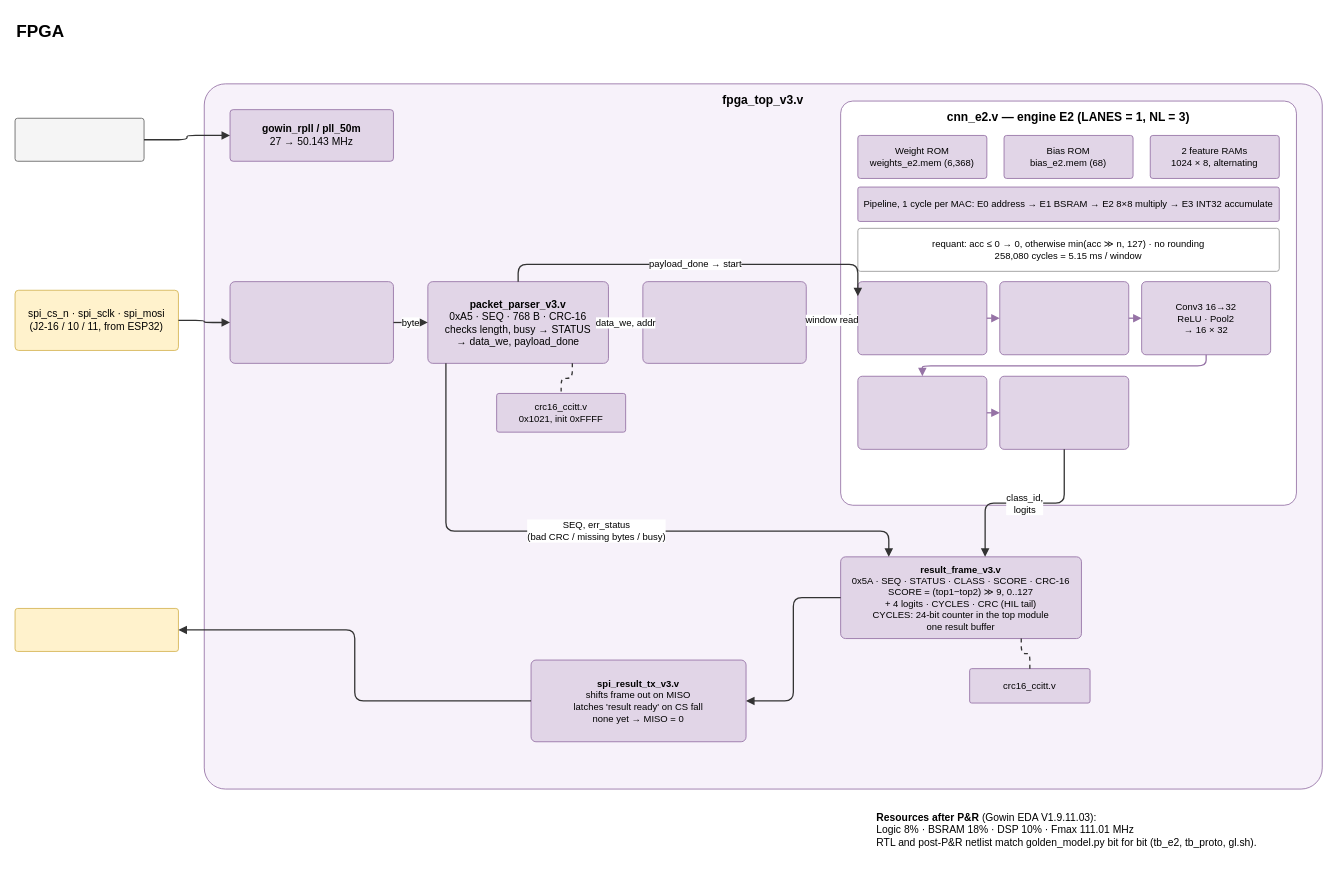
Some shapes in this 1337 by 881 pixel diagram are drawn without their labels. Here are the shapes that lost their labels. From the top down, the centre of each, then its label:
[79,139]: clk 27 MHz (H11)
[311,322]: spi_slave.v syncs SCK/CS/MOSI into 50 MHz domain, mode 0 → rx_data, rx_valid
[724,322]: input_buffer.v 768 × 8 BSRAM address i = t × 6 + c
[922,318]: Conv1 6→16, k5 ReLU · Pool2 → 64 × 16
[1064,318]: Conv2 16→16 ReLU · Pool2 → 32 × 16
[922,412]: Flatten 512 Dense 512→4 4 INT32 logits
[1064,412]: Argmax → class_id
[96,629]: spi_miso → ESP32 (J2-13)
